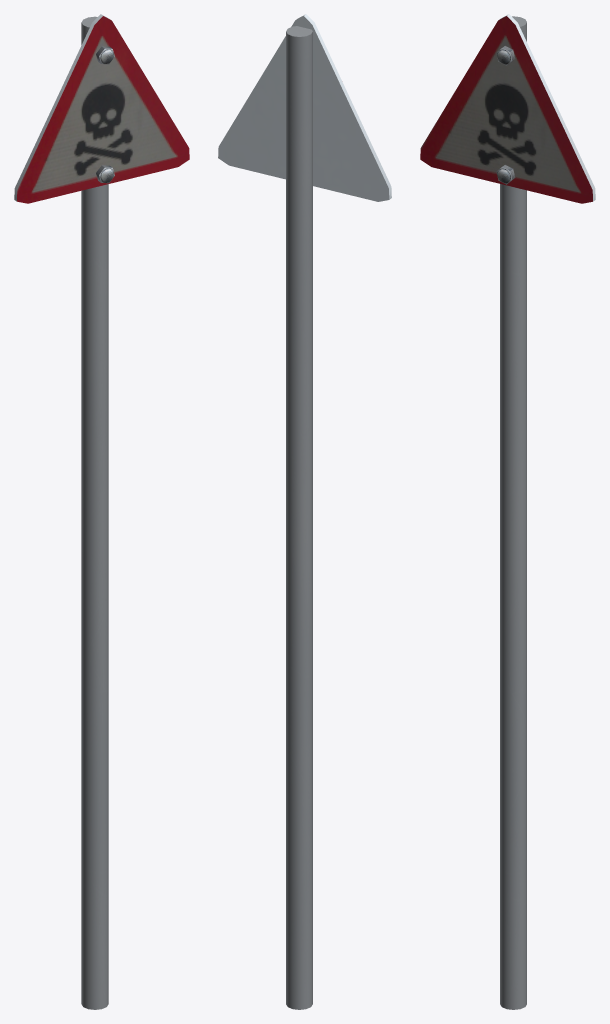
File: StreetSigns_2.fbx
3 views of the same model, side by side, from view 1: azimuth 30°, elevation 25°; view 2: azimuth 150°, elevation 25°; view 3: azimuth 330°, elevation 25° (orthographic).
Parts seen in each view (by area): view 1: StreetSigns_2; view 2: StreetSigns_2; view 3: StreetSigns_2.
Part boxes in pixels (x1=…): StreetSigns_2: x1=14, y1=14, x2=189, y2=1009; StreetSigns_2: x1=218, y1=14, x2=391, y2=1009; StreetSigns_2: x1=420, y1=14, x2=595, y2=1009.
Bounding box in the file's own units: 0.7368 × 4.05 × 0.1354.
